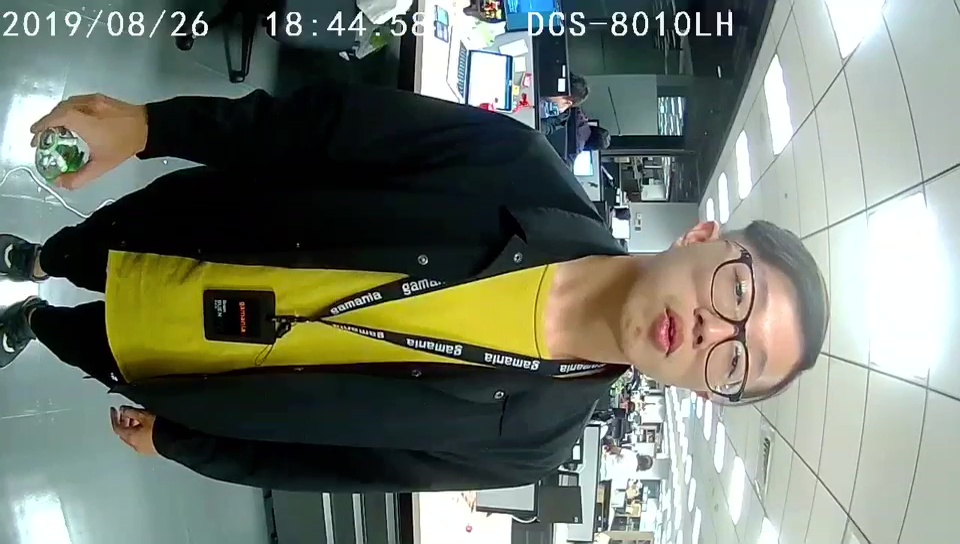buzz: (33, 121, 86, 182)
